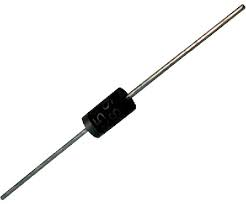diode: (53, 63, 158, 157)
